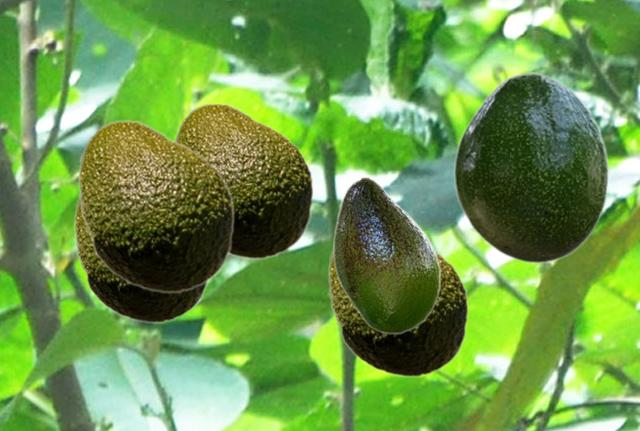avocado: (453, 72, 608, 263), (77, 119, 234, 293), (172, 102, 313, 259), (327, 244, 468, 377), (73, 194, 210, 323), (333, 176, 440, 333)
